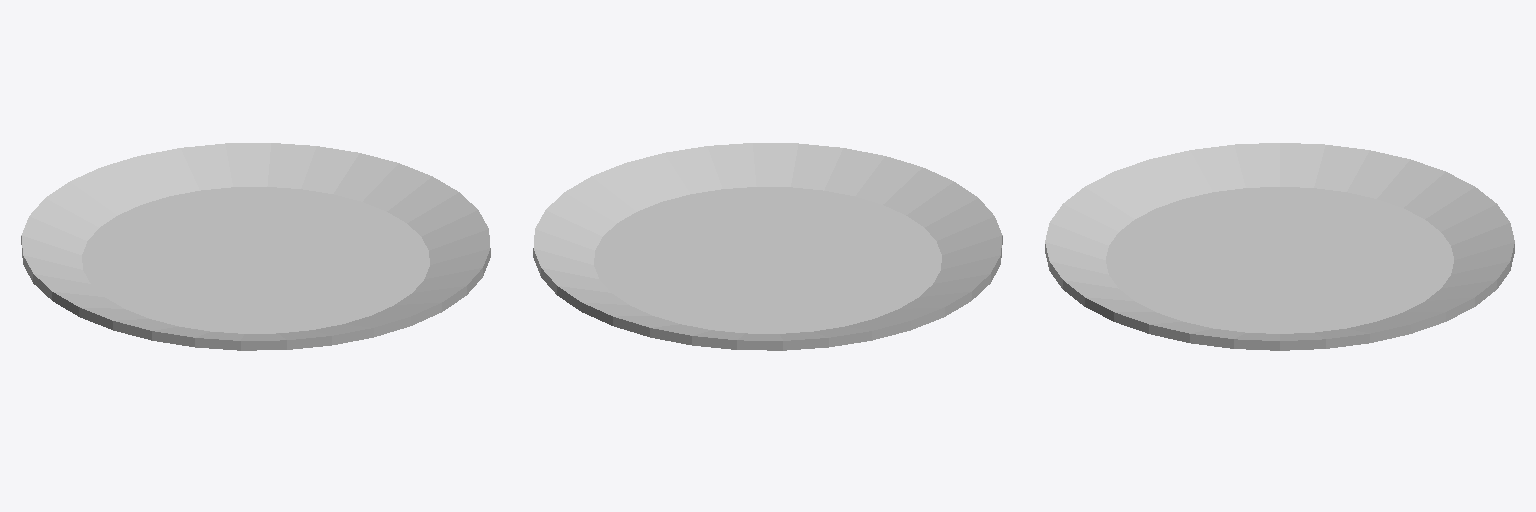
Rendered from dish1.obj.
3 renders of one model, left to right at view 1: azimuth 30°, elevation 25°; view 2: azimuth 150°, elevation 25°; view 3: azimuth 270°, elevation 25°, orthographic.
Visible parts, largest first — view 1: Plate_Template_Cylinder.003; view 2: Plate_Template_Cylinder.003; view 3: Plate_Template_Cylinder.003.
Part boxes in pixels (x1,y1,x2,y2): Plate_Template_Cylinder.003: (21, 143, 490, 350); Plate_Template_Cylinder.003: (533, 143, 1002, 350); Plate_Template_Cylinder.003: (1045, 143, 1514, 350).
Bounding box in the file's own units: 0.1617 × 0.0107 × 0.1617.